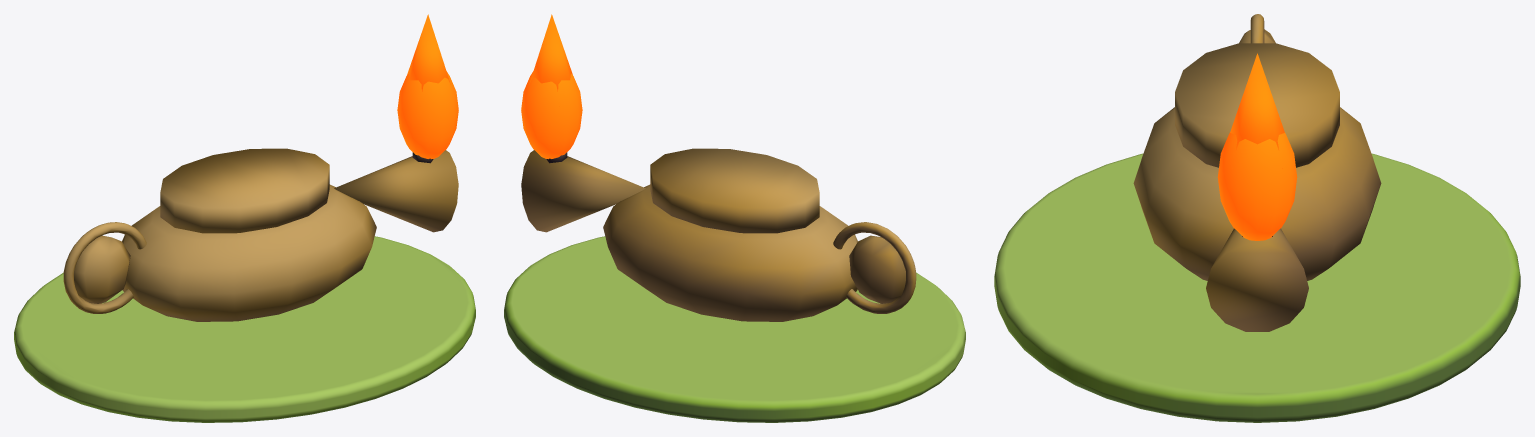
Rendered from lamp.glb.
The picture shows the model from 3 angles, left to right: view 1: azimuth 30°, elevation 25°; view 2: azimuth 150°, elevation 25°; view 3: azimuth 270°, elevation 25°; orthographic projection. The views are drawn at different scales.
Parts seen in each view (by area): view 1: lamp; view 2: lamp; view 3: lamp.
Boxes of the visible parts, x1=… form: lamp: x1=14, y1=14, x2=475, y2=422; lamp: x1=504, y1=14, x2=965, y2=422; lamp: x1=994, y1=14, x2=1520, y2=422.
Size of the model in its own units: 6.03 by 3.83 by 5.1.
